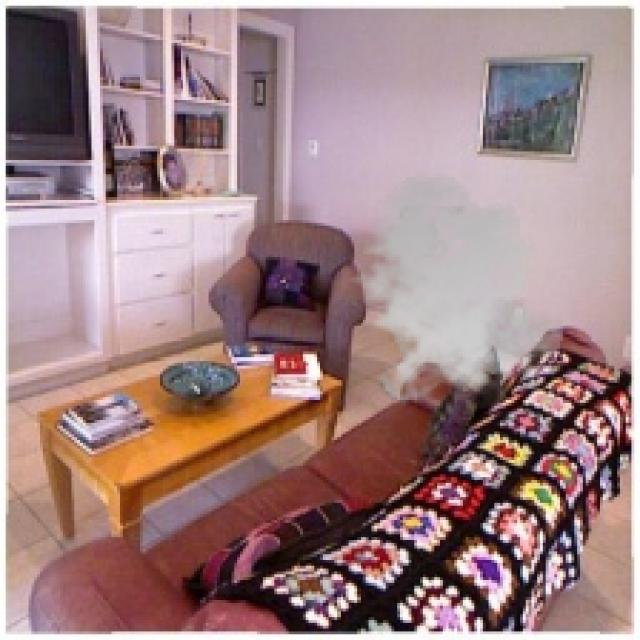smoke: (340, 172, 563, 408)
